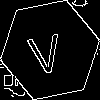V: (25, 25, 65, 76)
